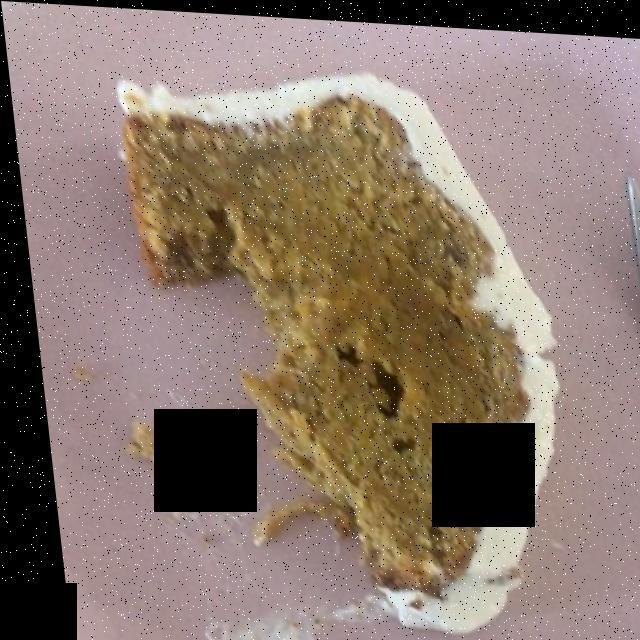cake: (118, 77, 531, 603)
